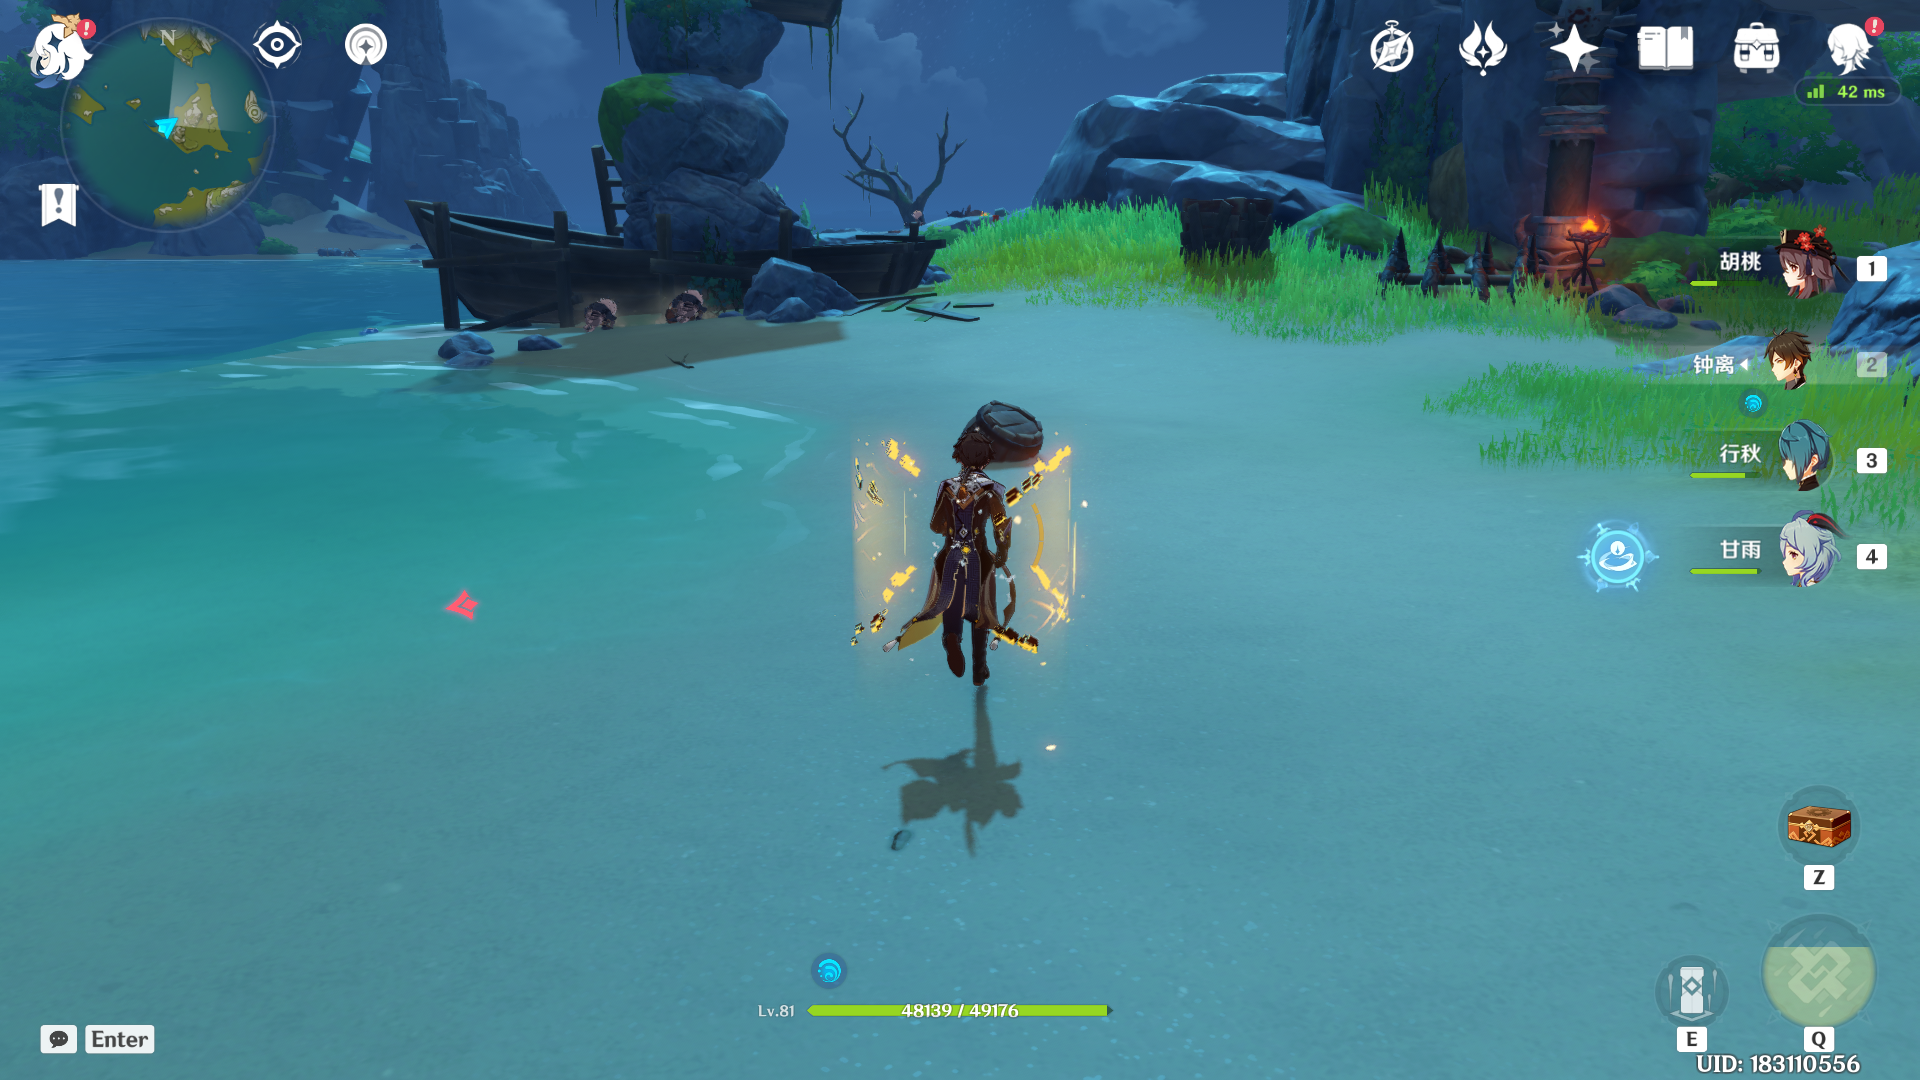character: (837, 388, 1073, 762)
